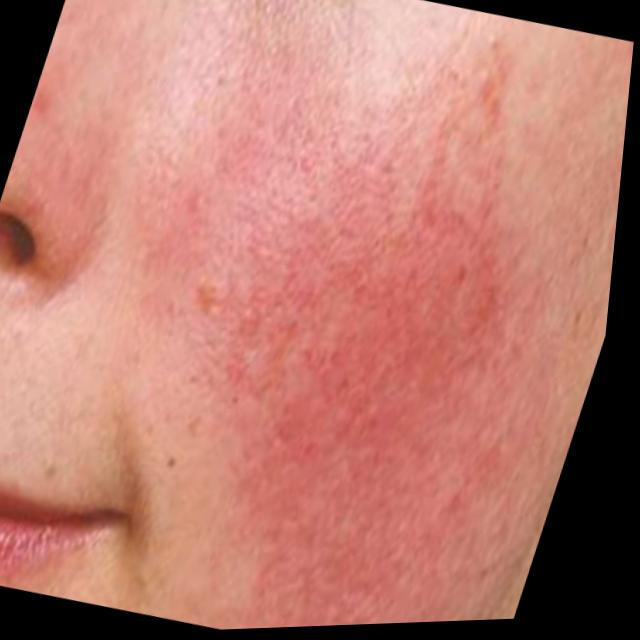skinredness: (138, 41, 600, 585)
